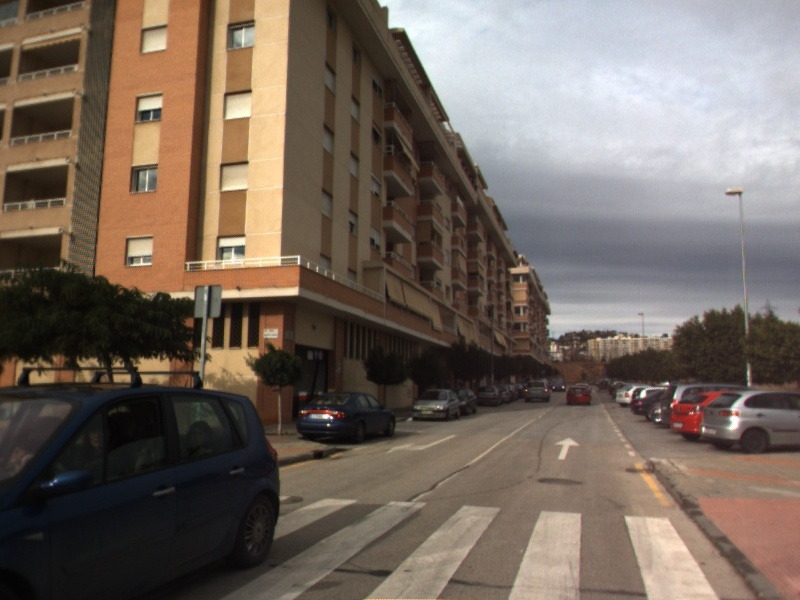STRAIGHT: (552, 436, 582, 462)
